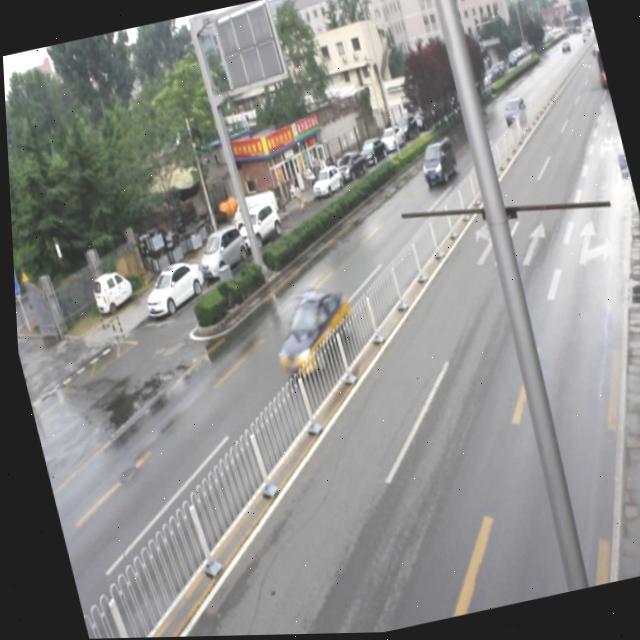car: (261, 284, 361, 381), (415, 140, 456, 189)
